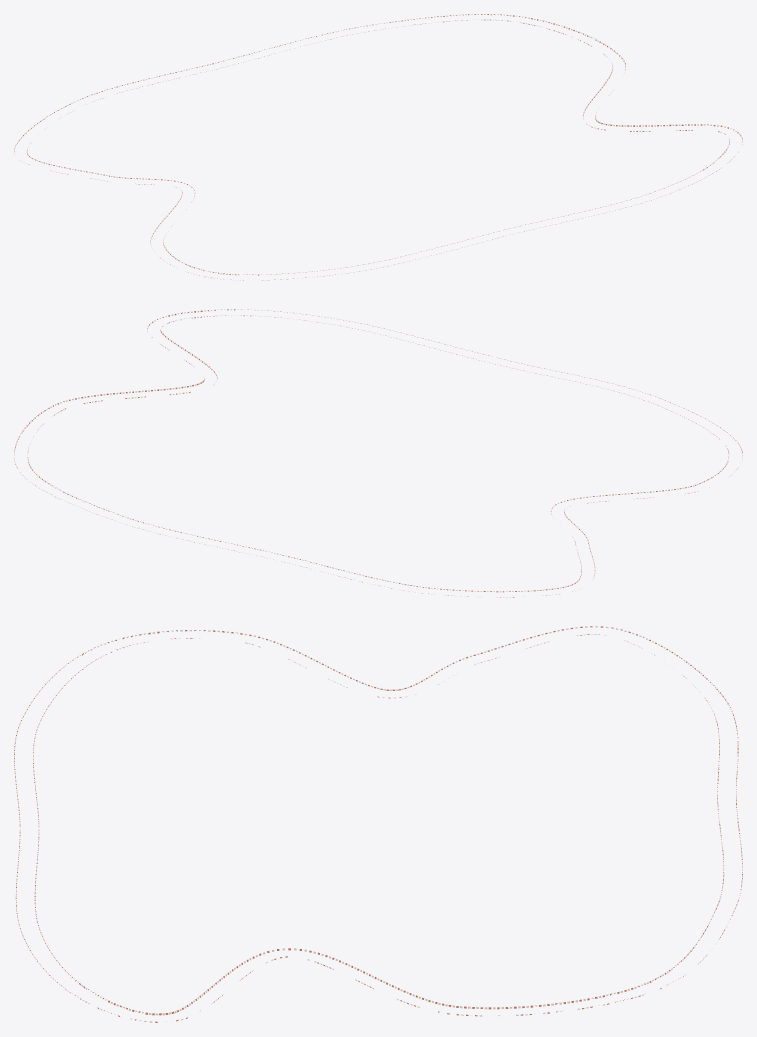
The model's file is road_curbs.glb.
The picture shows the model from 3 angles, top to bottom: view 1: azimuth 30°, elevation 25°; view 2: azimuth 150°, elevation 25°; view 3: azimuth 270°, elevation 25°; orthographic projection. The views are drawn at different scales.
Parts seen in each view (by area): view 1: primitive_road_curbs; view 2: primitive_road_curbs; view 3: primitive_road_curbs.
Part boxes in pixels (<box>): primitive_road_curbs: <box>14,14,742,280</box>; primitive_road_curbs: <box>14,309,742,597</box>; primitive_road_curbs: <box>14,626,742,1022</box>.
Bounding box in the file's own units: 943 × 2.61 × 732.
